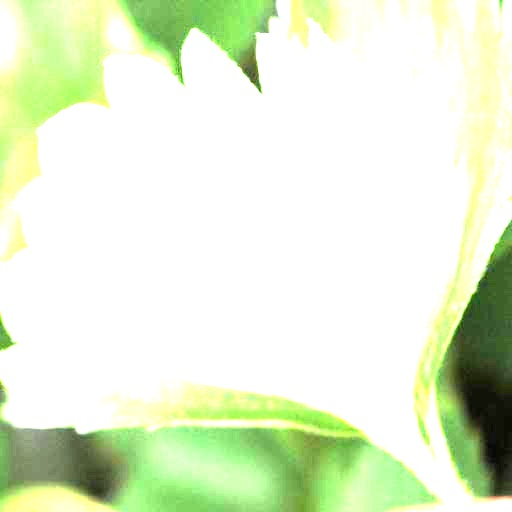Powdery Mildew Leaf: (0, 19, 470, 478)
